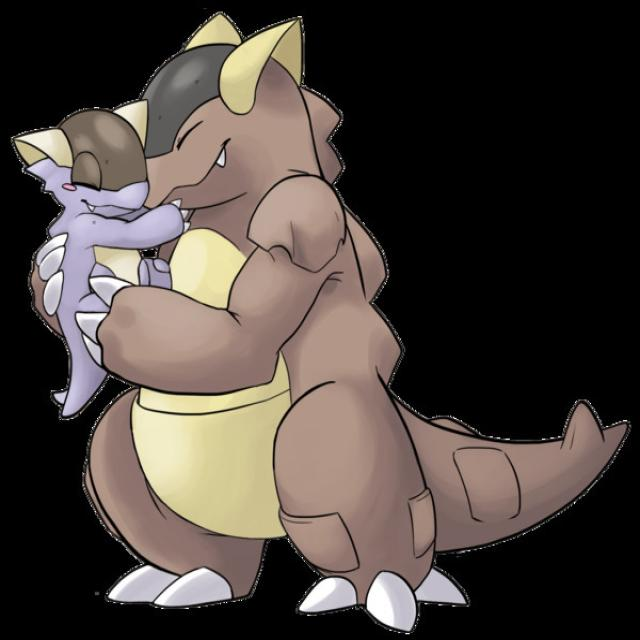Kangaskhan: (16, 11, 470, 631)
